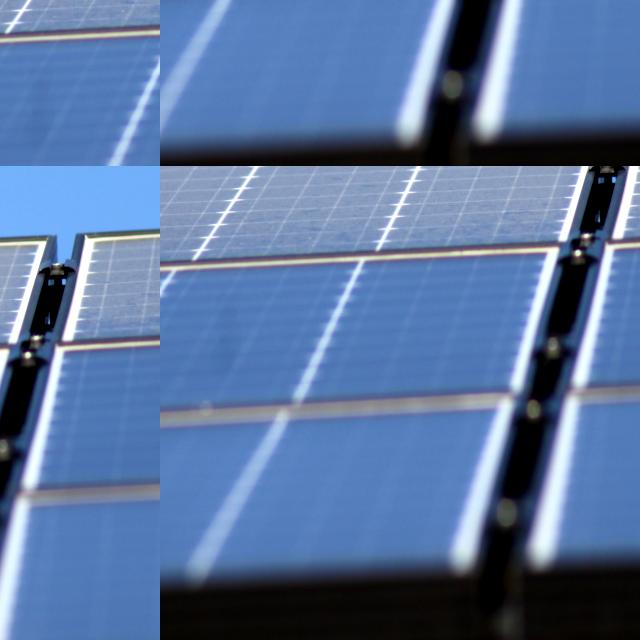bird: (0, 177, 26, 273), (160, 0, 179, 32), (162, 0, 173, 18), (198, 0, 212, 13)
crack: (0, 0, 158, 135)
dust: (409, 166, 595, 237), (237, 166, 392, 243), (160, 166, 220, 258), (194, 0, 260, 38), (160, 0, 197, 50), (160, 0, 199, 22)
